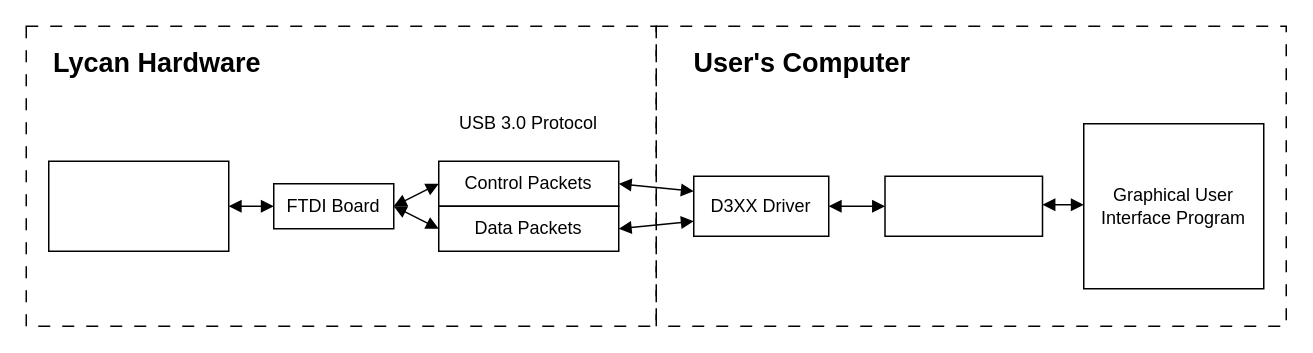
This 1313x353 diagram has some shape labels left out. The shapes that lost their labels are listed below. From the top down, each one's centre as x and y in pixels, then its label:
At pixel 138 205: "Lycan Device Hardware".
At pixel 963 205: "Python D3XX Module".
